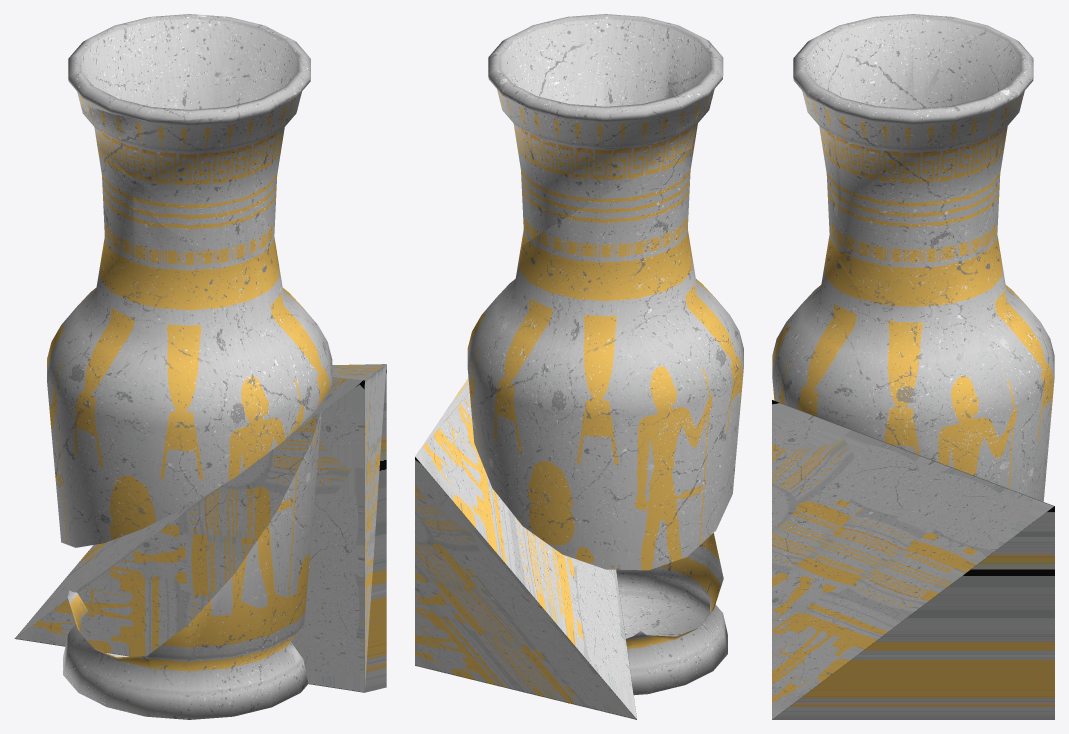
Rendered from s3-5pieces.fbx.
The picture shows the model from 3 angles, left to right: view 1: azimuth 30°, elevation 25°; view 2: azimuth 150°, elevation 25°; view 3: azimuth 270°, elevation 25°; orthographic projection. The views are drawn at different scales.
Parts seen in each view (by area): view 1: vase_A_S3_cell.001, vase_A_S3_cell.002, vase_A_S3_cell.003, vase_A_S3_cell.004, vase_A_S3_cell; view 2: vase_A_S3_cell.001, vase_A_S3_cell.002, vase_A_S3_cell.004, vase_A_S3_cell.003, vase_A_S3_cell; view 3: vase_A_S3_cell.002, vase_A_S3_cell.004, vase_A_S3_cell.001, vase_A_S3_cell, vase_A_S3_cell.005.
Part boxes in pixels (bbox=[...]): vase_A_S3_cell.001: bbox=[47, 144, 332, 547]; vase_A_S3_cell.002: bbox=[14, 364, 386, 692]; vase_A_S3_cell.003: bbox=[63, 412, 321, 719]; vase_A_S3_cell.004: bbox=[68, 14, 310, 268]; vase_A_S3_cell: bbox=[81, 89, 302, 258]; vase_A_S3_cell.001: bbox=[467, 157, 743, 570]; vase_A_S3_cell.002: bbox=[415, 378, 636, 719]; vase_A_S3_cell.004: bbox=[488, 14, 723, 247]; vase_A_S3_cell.003: bbox=[616, 533, 727, 695]; vase_A_S3_cell: bbox=[671, 94, 713, 167]; vase_A_S3_cell.002: bbox=[772, 400, 1054, 719]; vase_A_S3_cell.004: bbox=[793, 14, 1033, 306]; vase_A_S3_cell.001: bbox=[772, 106, 1054, 501]; vase_A_S3_cell: bbox=[793, 75, 840, 238]; vase_A_S3_cell.005: bbox=[812, 38, 939, 108].
Size of the model in its own units: 10744 by 24640 by 10586.
